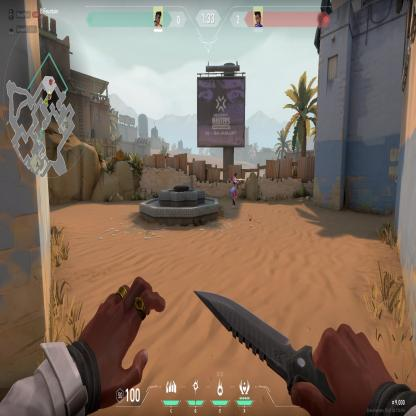enemy: (231, 171, 238, 208)
